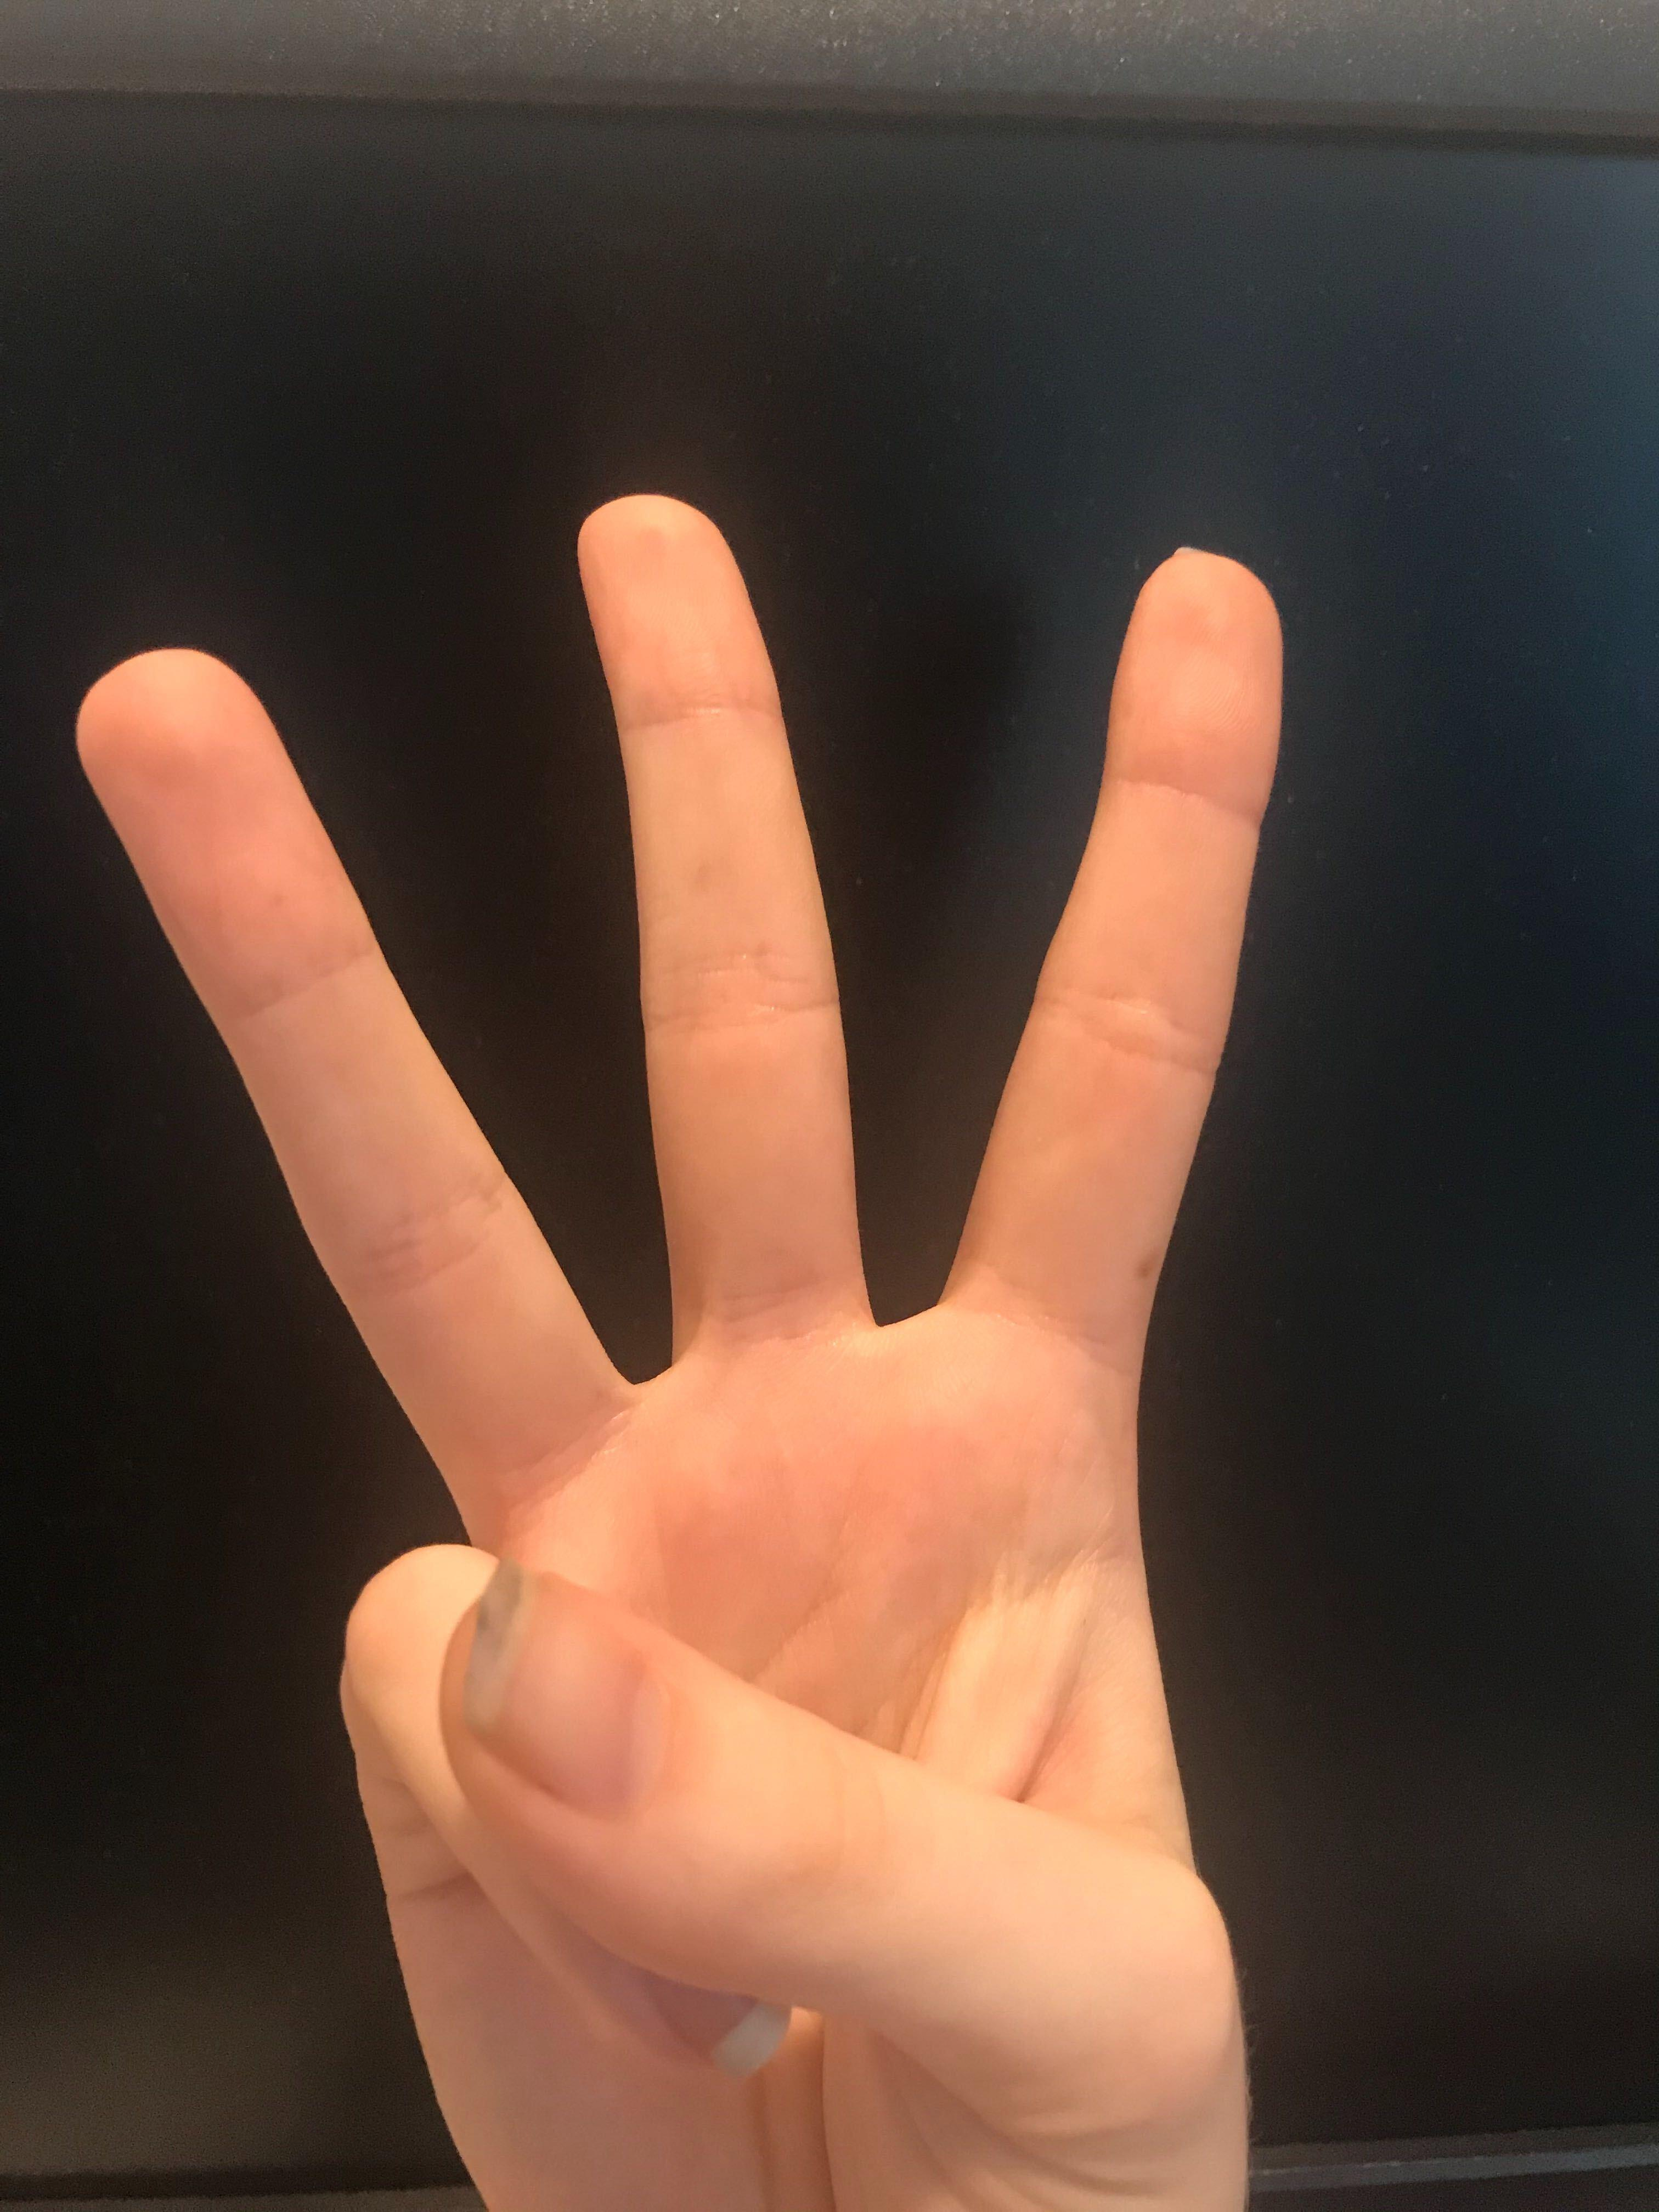W: (63, 477, 1305, 2212)
